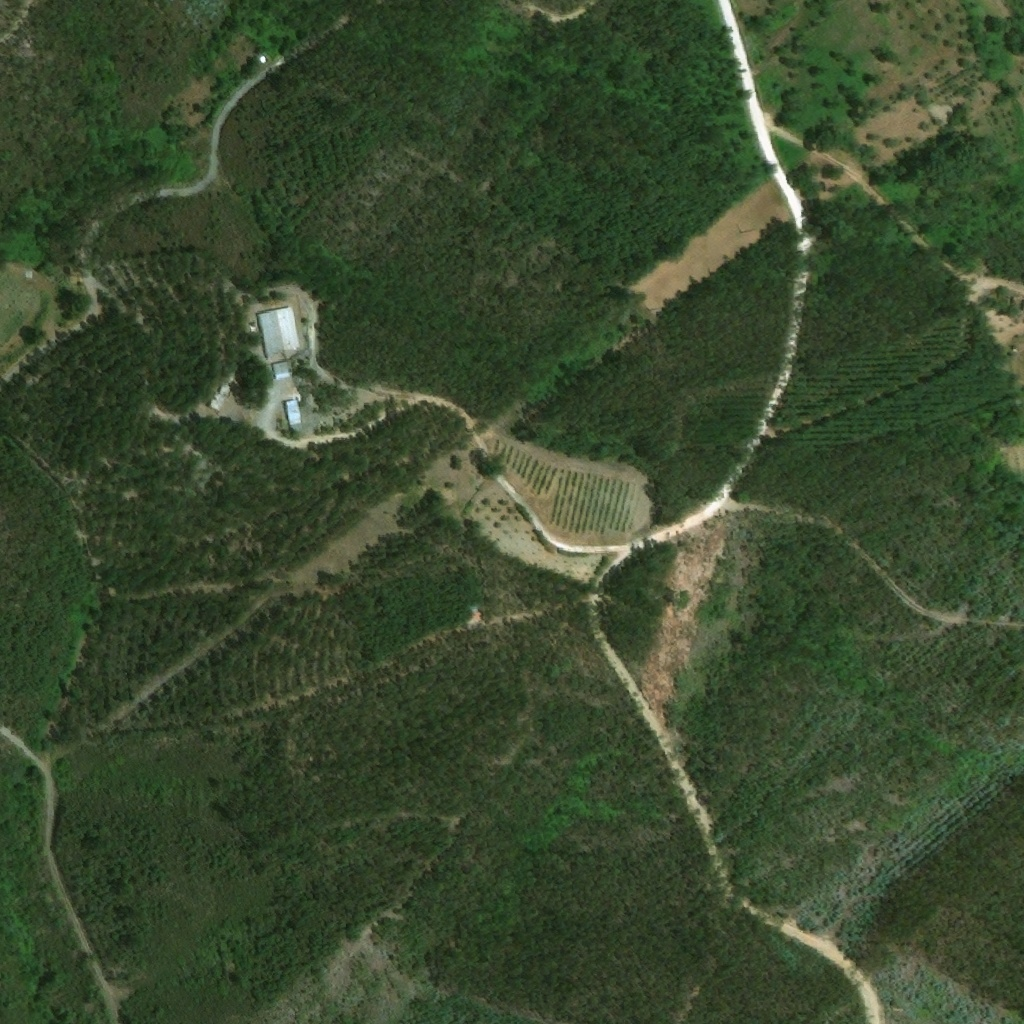0 no-damage: (254, 306, 299, 357), (208, 376, 236, 411), (283, 398, 302, 425), (271, 359, 294, 378)
